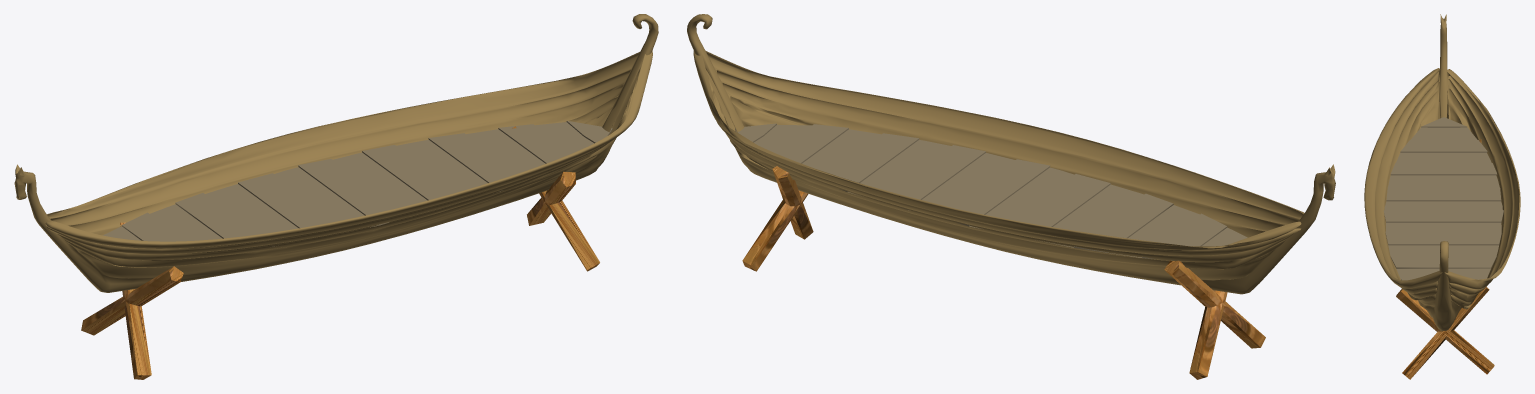
File: skib2.fbx
The picture shows the model from 3 angles, left to right: view 1: azimuth 30°, elevation 25°; view 2: azimuth 150°, elevation 25°; view 3: azimuth 270°, elevation 25°; orthographic projection. The views are drawn at different scales.
Parts seen in each view (by area): view 1: Cube, Disc, Cylinder_3, Cylinder, Cylinder_2, Cylinder_1; view 2: Cube, Disc, Cylinder, Cylinder_3, Cylinder_1, Cylinder_2; view 3: Disc, Cube, Cylinder_1, Cylinder_2.
Part boxes in pixels (box(x1,y1,x2,y2)): Cube: box(14, 14, 658, 292); Disc: box(103, 121, 612, 246); Cylinder_3: box(81, 266, 183, 335); Cylinder: box(120, 222, 151, 379); Cylinder_2: box(512, 126, 599, 271); Cylinder_1: box(527, 171, 575, 225); Cube: box(687, 14, 1335, 294); Disc: box(735, 123, 1247, 259); Cylinder: box(1164, 260, 1265, 348); Cylinder_3: box(1189, 290, 1227, 379); Cylinder_1: box(742, 190, 808, 271); Cylinder_2: box(772, 166, 813, 239); Disc: box(1383, 117, 1503, 280); Cube: box(1364, 14, 1520, 331); Cylinder_1: box(1396, 289, 1494, 374); Cylinder_2: box(1402, 286, 1489, 379).
Size of the model in its own units: 880 by 292 by 249.
3 materials, 1 textured.
